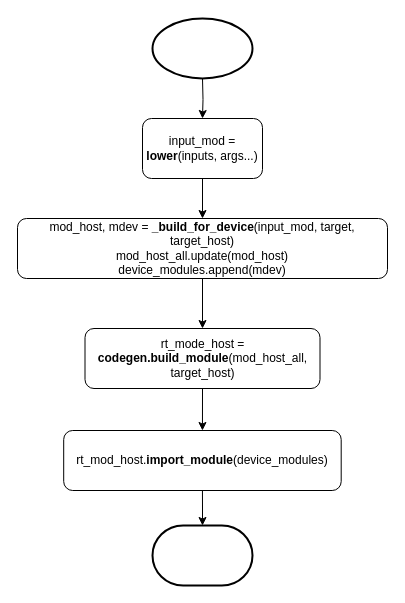
Image size: 405x603. Some labels were removed from this diagram. The shapes that lost their labels are listed below. From the top down, each one's centre as x and y in pixels, then its label:
At point (202, 48): "schedule, target, target_host".
At point (202, 555): "return rt_mode_host".
